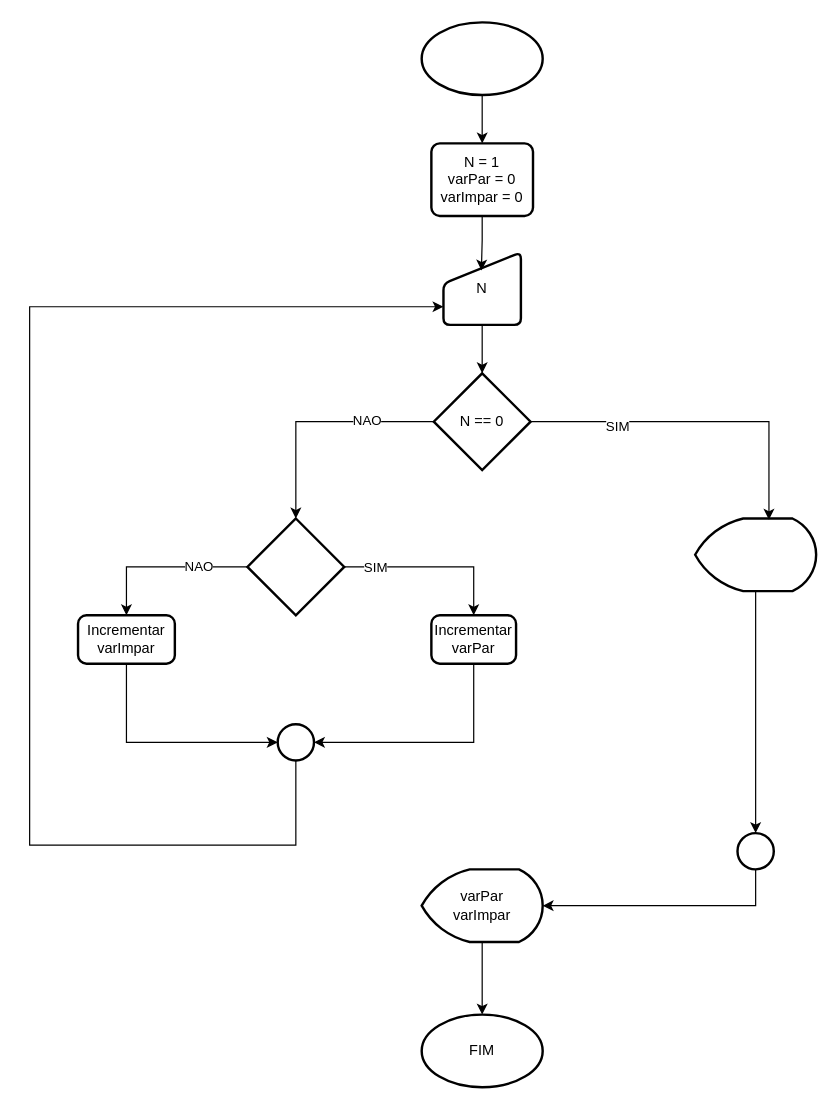
This 839x1108 diagram has some shape labels left out. Here are the shapes that lost their labels. From the top down, the box of each, then its label:
(420, 21, 543, 96): INICIO
(246, 517, 345, 616): N % 2 == 0
(693, 517, 817, 592): "Encerrando a Contagem"
